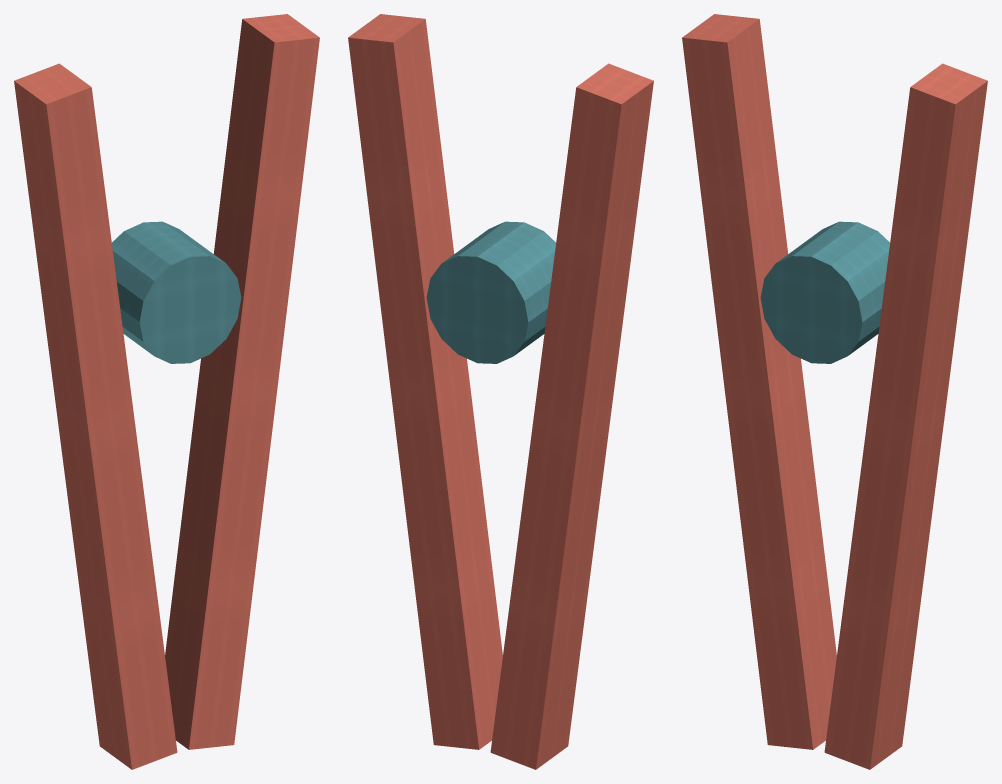
File: atlas100-s080-a05.glb
The picture shows the model from 3 angles, left to right: view 1: azimuth 30°, elevation 25°; view 2: azimuth 150°, elevation 25°; view 3: azimuth 330°, elevation 25°; orthographic projection.
Visible parts, largest first — view 1: atlas100-s080-a05:part-001, atlas100-s080-a05:part-000, atlas100-s080-a05:part-002; view 2: atlas100-s080-a05:part-001, atlas100-s080-a05:part-000, atlas100-s080-a05:part-002; view 3: atlas100-s080-a05:part-000, atlas100-s080-a05:part-001, atlas100-s080-a05:part-002.
Part boxes in pixels (box(x1,y1,x2,y2)): atlas100-s080-a05:part-001: box(165, 14, 319, 749); atlas100-s080-a05:part-000: box(14, 63, 177, 769); atlas100-s080-a05:part-002: box(112, 221, 241, 363); atlas100-s080-a05:part-001: box(348, 14, 502, 749); atlas100-s080-a05:part-000: box(490, 63, 653, 769); atlas100-s080-a05:part-002: box(426, 221, 555, 363); atlas100-s080-a05:part-000: box(682, 14, 836, 749); atlas100-s080-a05:part-001: box(824, 63, 987, 769); atlas100-s080-a05:part-002: box(760, 221, 889, 363).
Size of the model in its own units: 0.2936 by 0.7102 by 0.0874.
Materials: 2 (2 with a texture image).
